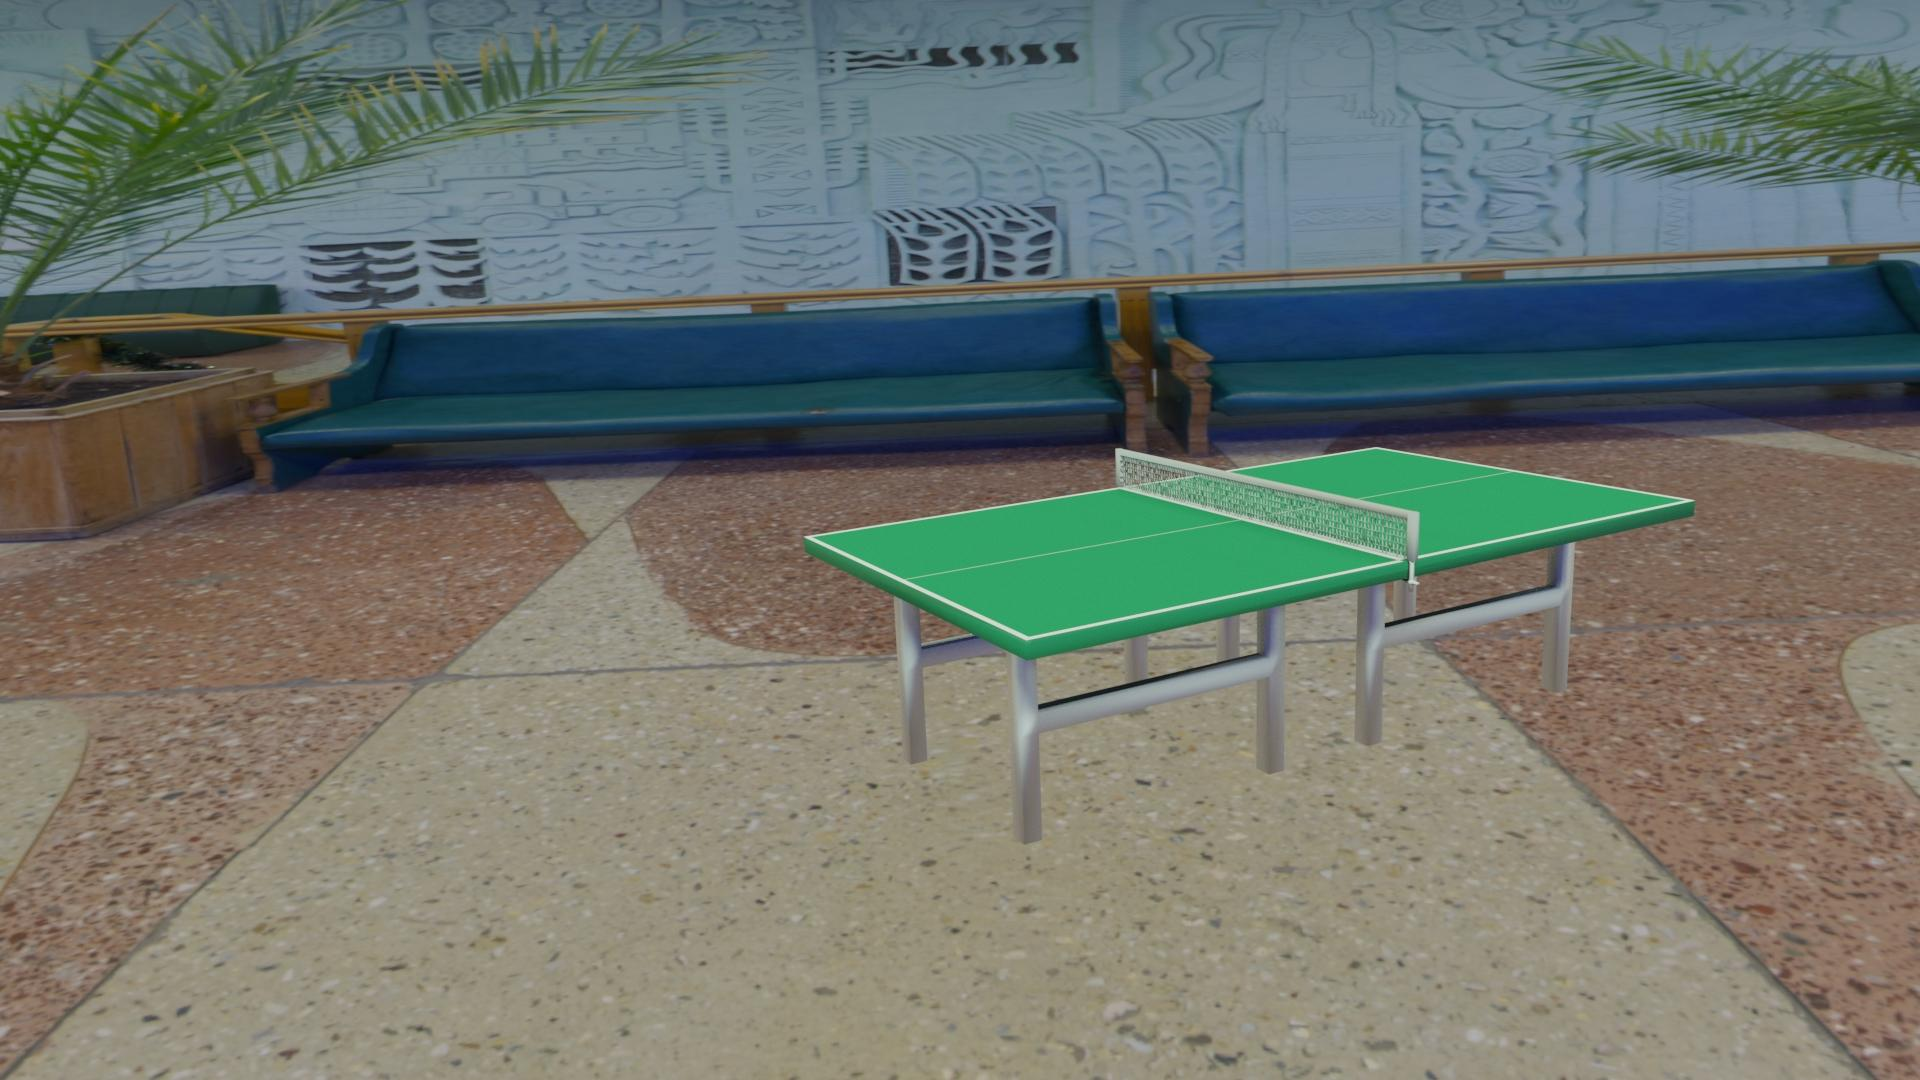table: (811, 448, 1687, 637)
